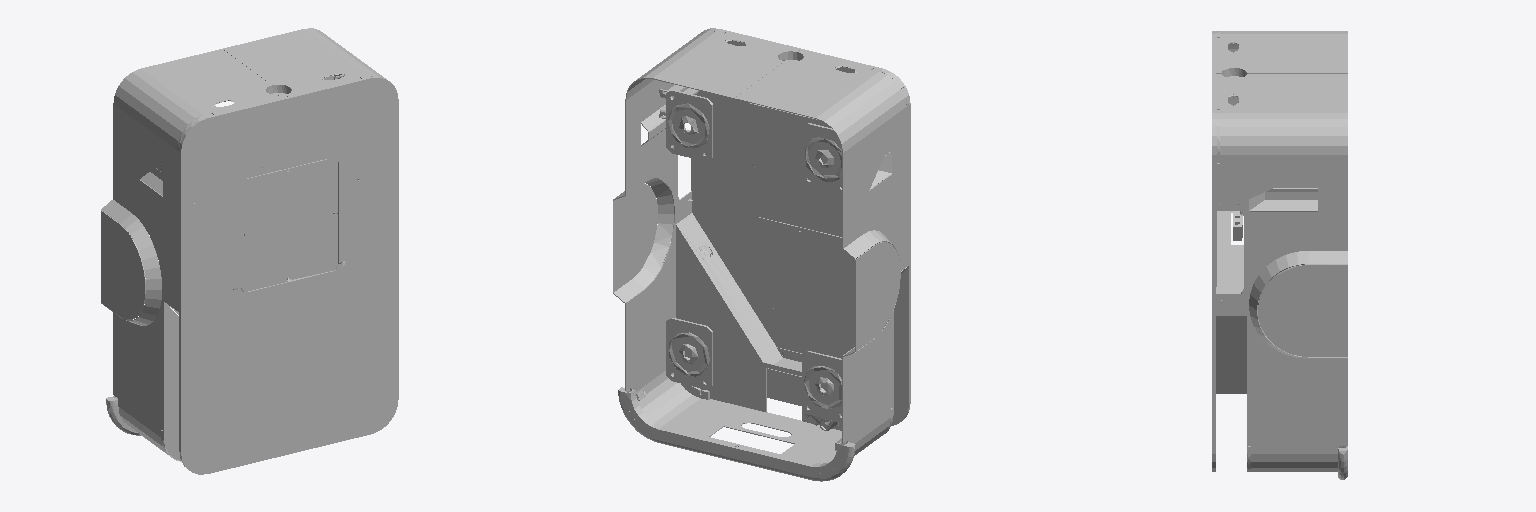
The model's file is dual_rm_75b_description_base_link_underpan_visuals_base_link_underpan_mesh.obj.
The picture shows the model from 3 angles: view 1: azimuth 30°, elevation 25°; view 2: azimuth 150°, elevation 25°; view 3: azimuth 270°, elevation 25°; orthographic projection.
Bounding box in the file's own units: 0.447 × 0.6408 × 0.215.